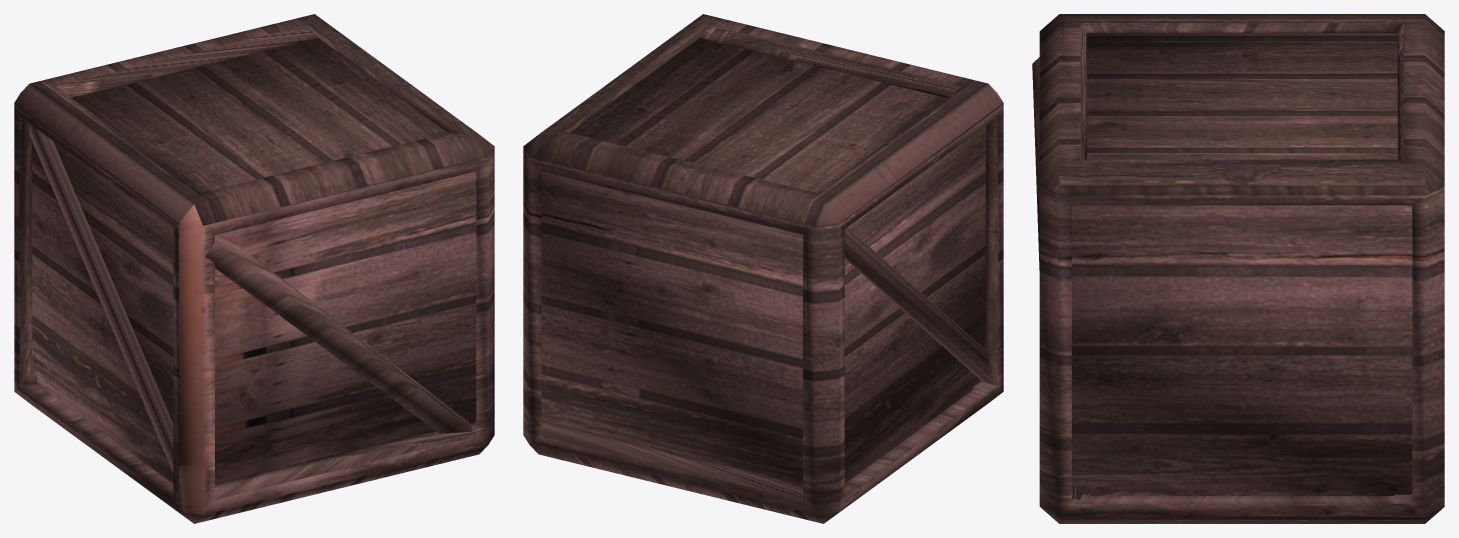
File: Caixa.fbx
3 renders of one model, left to right at view 1: azimuth 30°, elevation 25°; view 2: azimuth 150°, elevation 25°; view 3: azimuth 270°, elevation 25°, orthographic. The views are drawn at different scales.
Parts seen in each view (by area): view 1: Caixa; view 2: Caixa; view 3: Caixa.
Boxes of the visible parts, bbox=[...] form: Caixa: bbox=[14, 14, 494, 523]; Caixa: bbox=[523, 14, 1003, 523]; Caixa: bbox=[1032, 14, 1444, 523].
Size of the model in its own units: 186 by 189 by 180.
